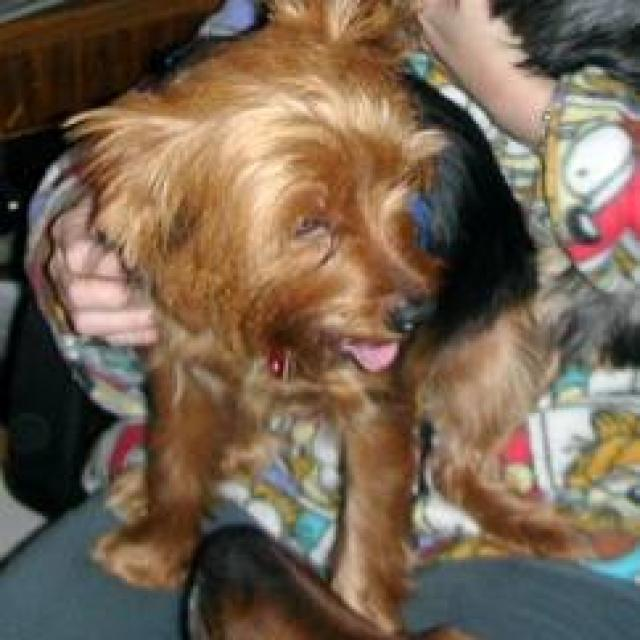dog: (55, 0, 637, 637)
